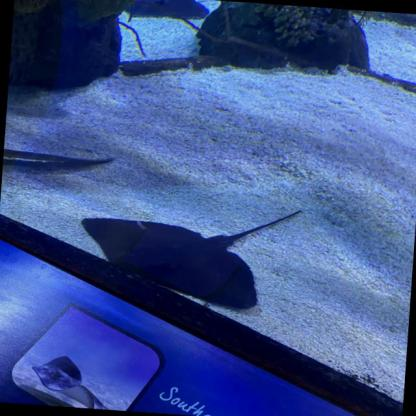stingray: (78, 217, 263, 311), (124, 0, 210, 23)
